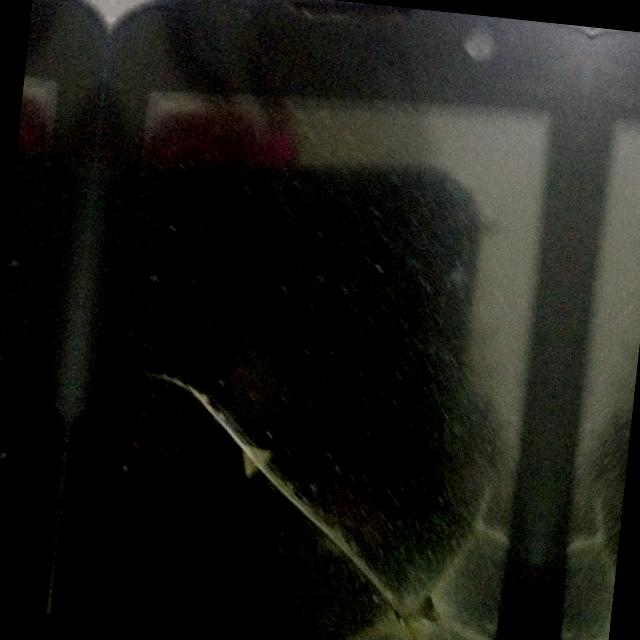phone_screen: (78, 93, 549, 639), (562, 124, 639, 639), (0, 77, 56, 597)
